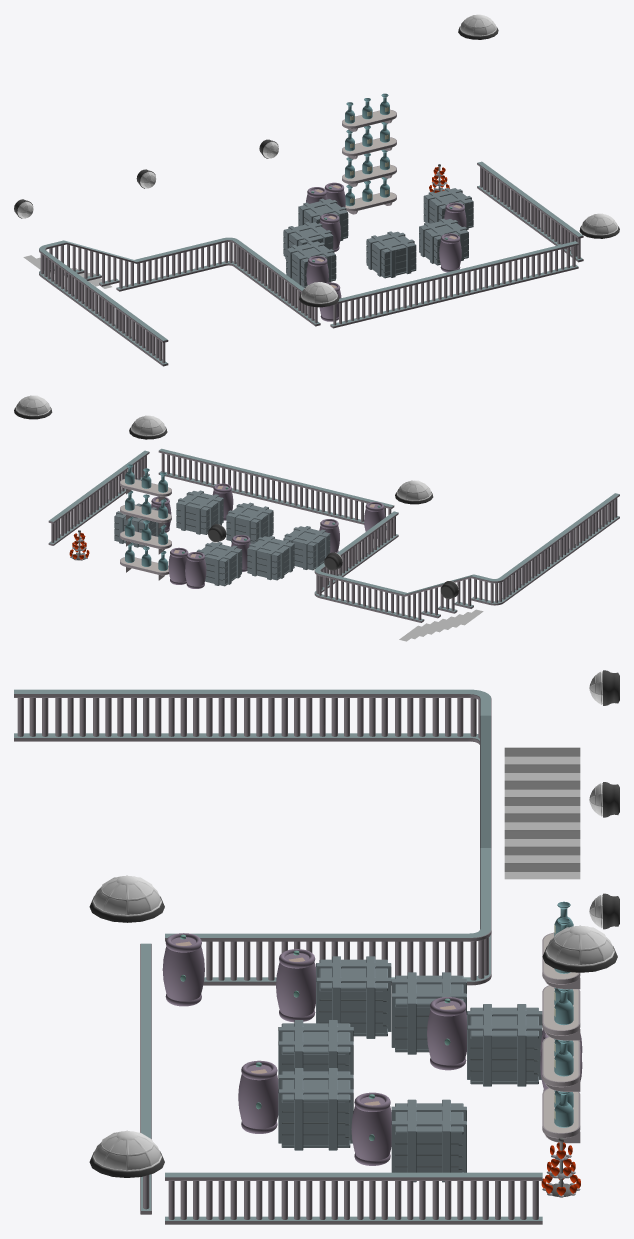
3 renders of one model, top to bottom at view 1: azimuth 30°, elevation 25°; view 2: azimuth 150°, elevation 25°; view 3: azimuth 270°, elevation 25°, orthographic. The views are drawn at different scales.
Parts seen in each view (by area): view 1: colored; view 2: colored; view 3: colored.
Boxes of the visible parts, x1,y1,x2,y2 form: colored: (14,14,619,366); colored: (14,395,619,641); colored: (14,670,619,1224).
Size of the model in its own units: 27.66 by 8.86 by 16.06.
